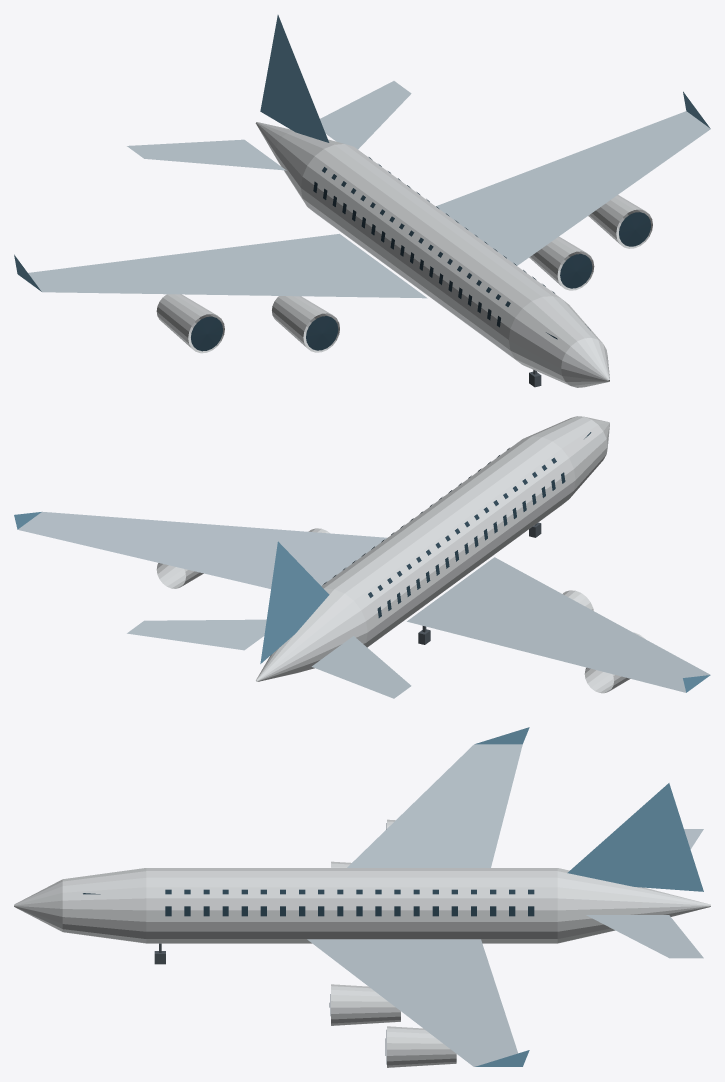
Rendered from a380-AAL.gltf.
3 renders of one model, top to bottom at view 1: azimuth 30°, elevation 25°; view 2: azimuth 150°, elevation 25°; view 3: azimuth 270°, elevation 25°, orthographic.
Visible parts, largest first — view 1: object 1; view 2: object 1; view 3: object 1.
Part boxes in pixels (x1=…): object 1: x1=14, y1=15, x2=710, y2=387; object 1: x1=14, y1=416, x2=710, y2=698; object 1: x1=14, y1=727, x2=710, y2=1067.
Bounding box in the file's own units: 80 × 20.82 × 73.
